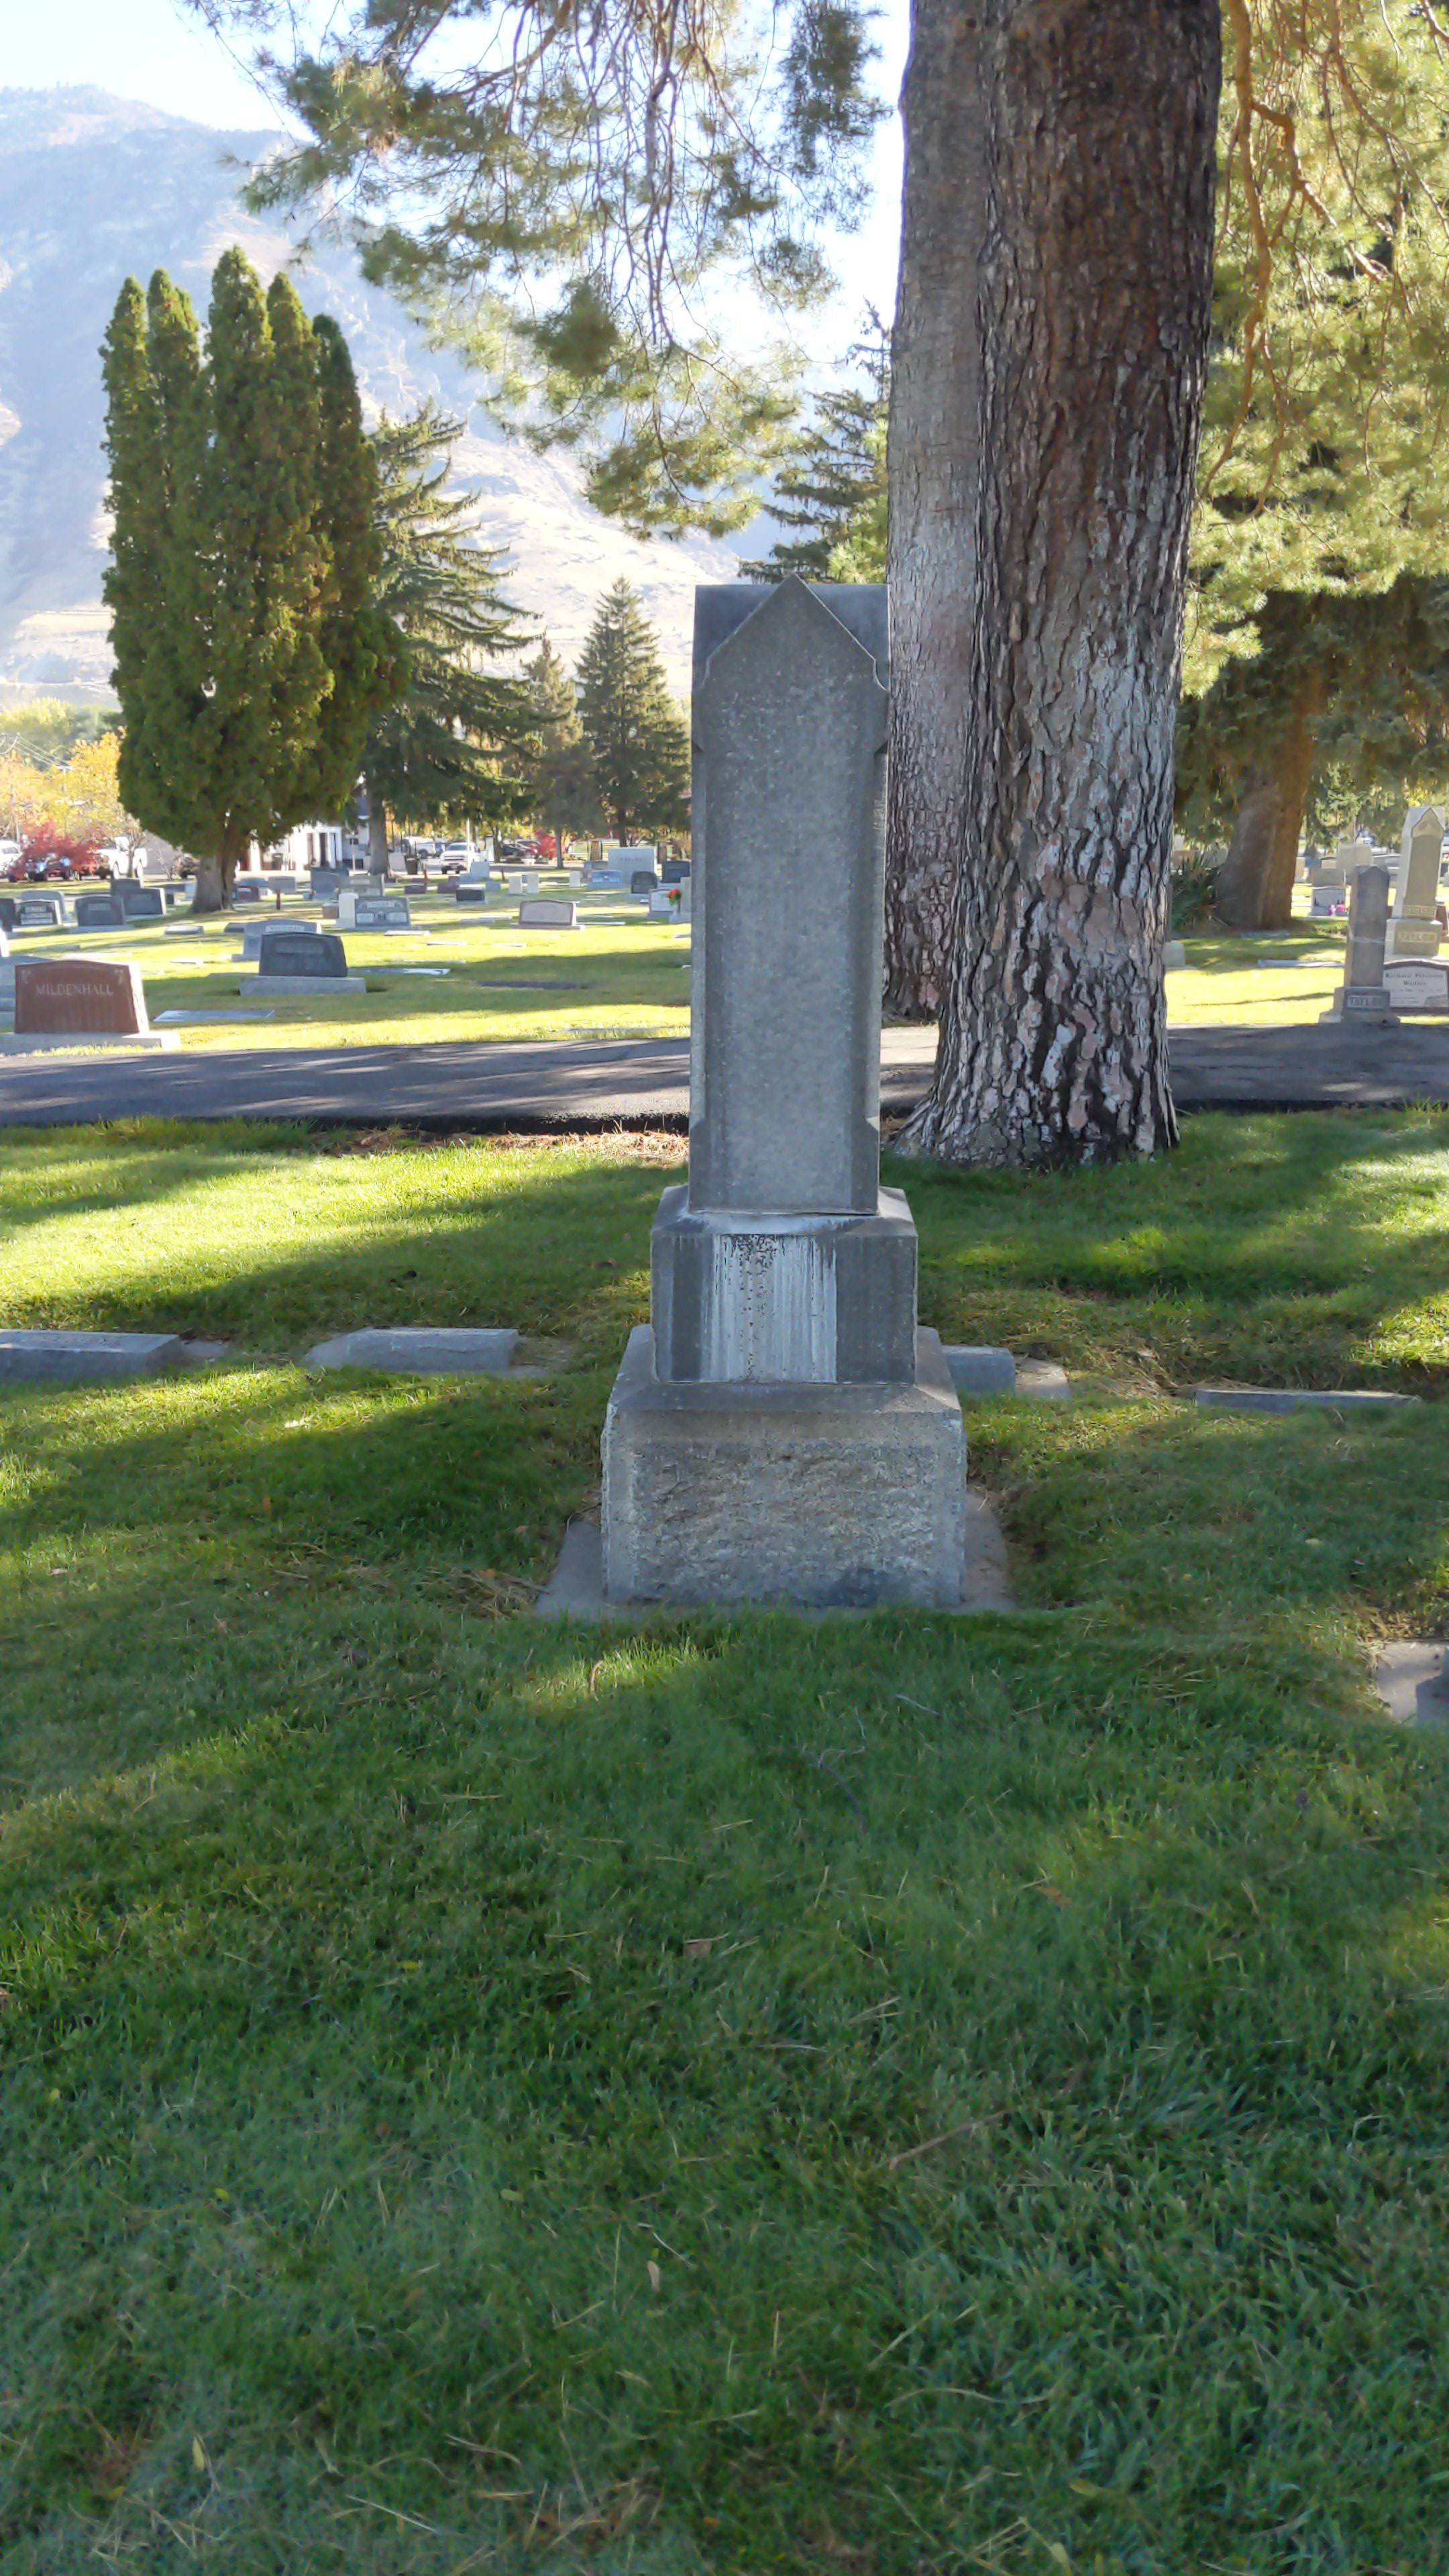obelisk: (672, 577, 916, 1385)
